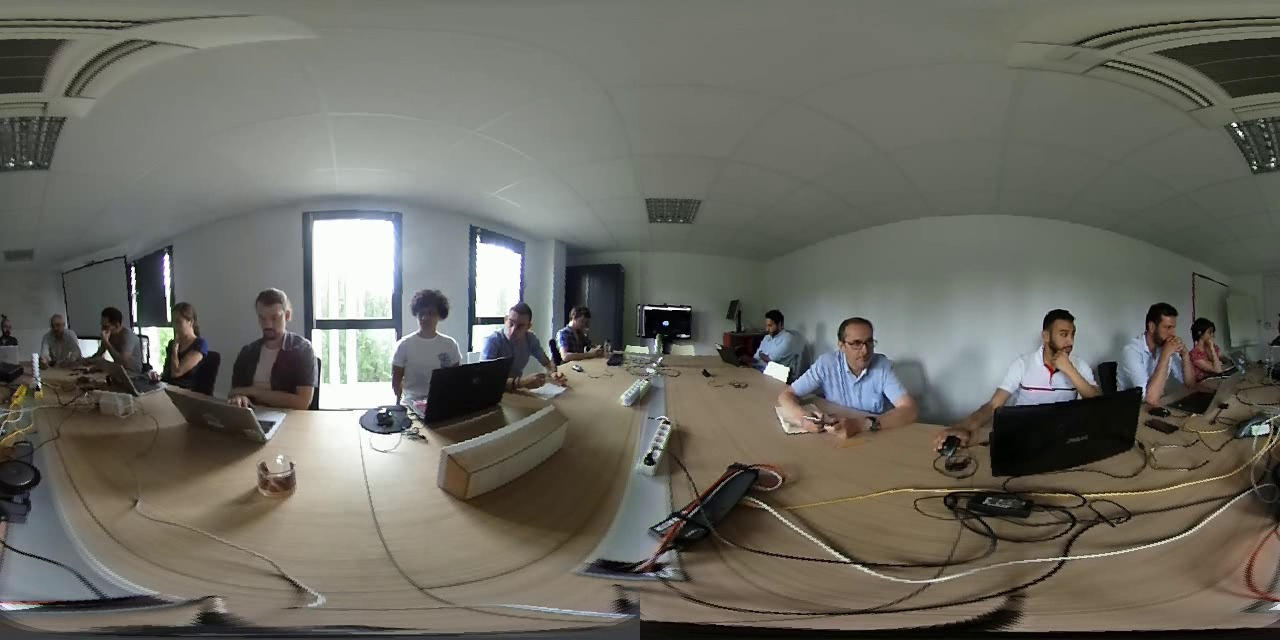person: (798, 301, 913, 426), (225, 284, 326, 408), (989, 297, 1101, 407), (386, 284, 470, 378), (1112, 297, 1189, 398), (157, 292, 217, 383), (480, 294, 542, 370), (551, 292, 609, 361), (94, 300, 148, 372), (742, 300, 797, 370), (1189, 310, 1242, 375), (37, 302, 86, 364), (1, 310, 26, 352)
